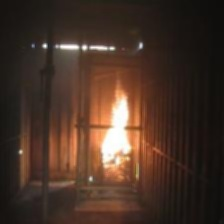fire: (96, 83, 135, 170)
